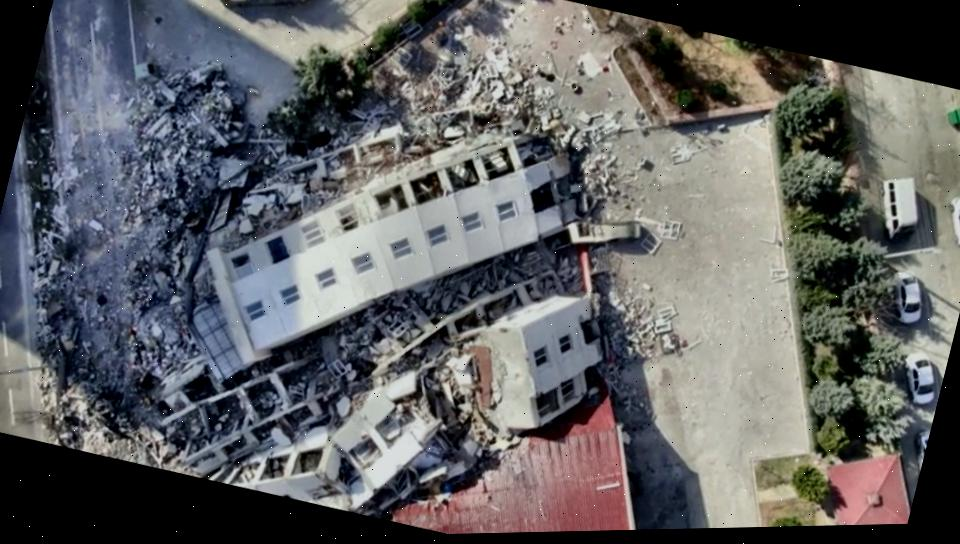kapali: (50, 0, 181, 474)
